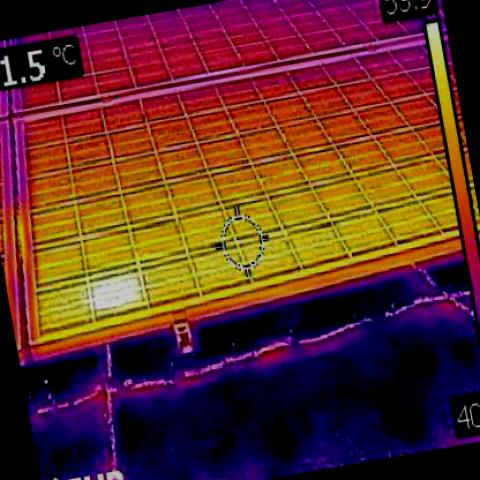fault: (84, 276, 148, 309)
